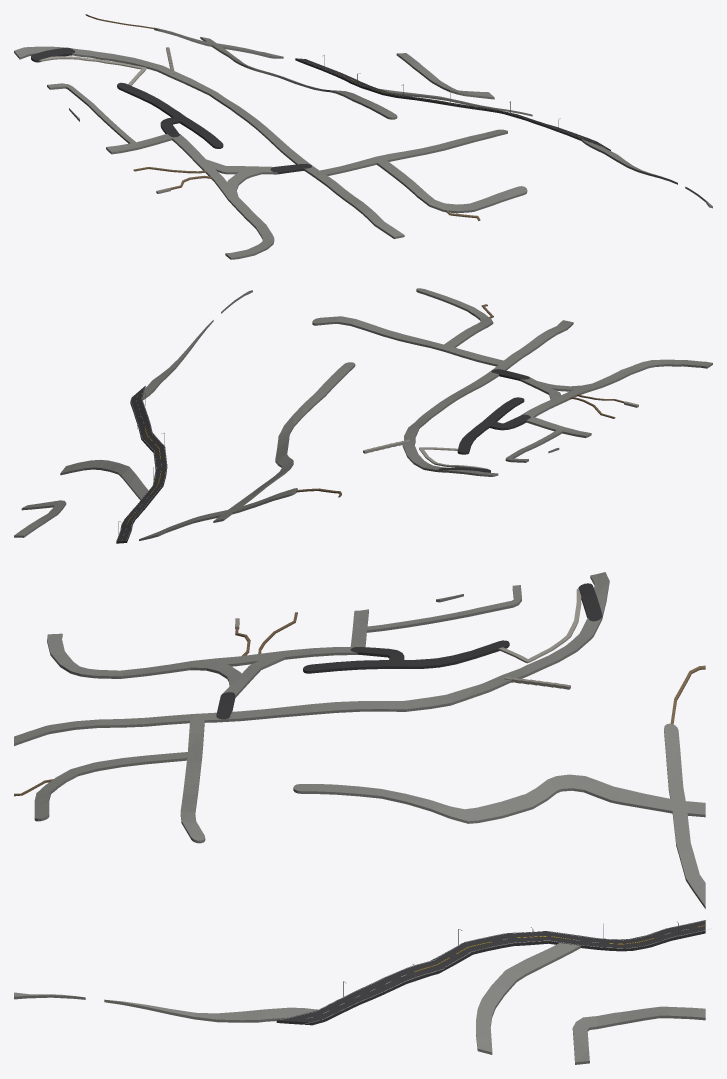
The picture shows the model from 3 angles, top to bottom: view 1: azimuth 30°, elevation 25°; view 2: azimuth 150°, elevation 25°; view 3: azimuth 270°, elevation 25°; orthographic projection. The views are drawn at different scales.
Size of the model in its own units: 295 by 92.49 by 295.
